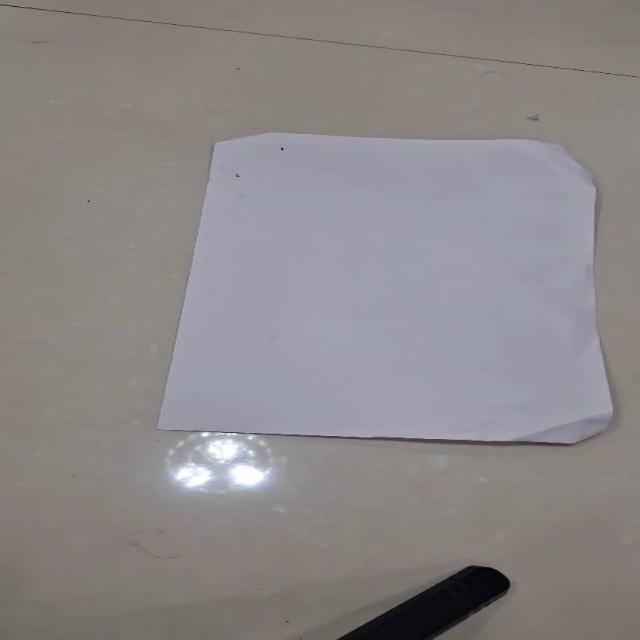paper: (156, 131, 614, 444)
